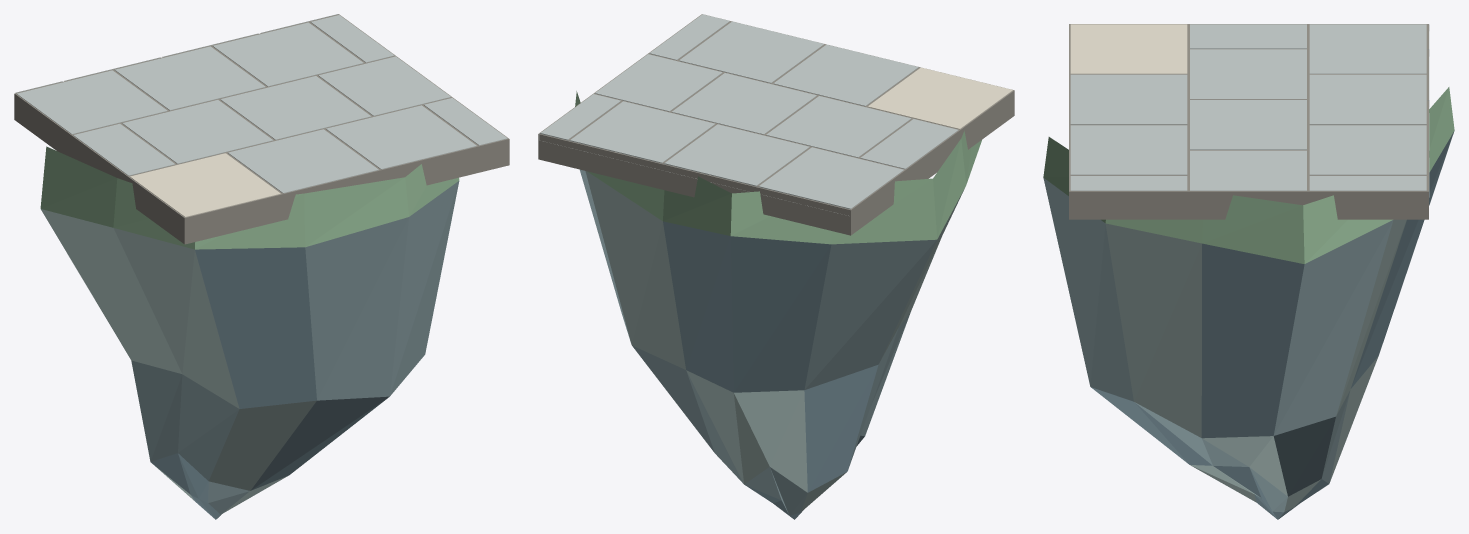
Rendered from FloatingIsland22.glb.
3 views of the same model, side by side, from view 1: azimuth 30°, elevation 25°; view 2: azimuth 150°, elevation 25°; view 3: azimuth 270°, elevation 25° (orthographic). The views are drawn at different scales.
Parts seen in each view (by area): view 1: FloatingIsland22; view 2: FloatingIsland22; view 3: FloatingIsland22.
Part boxes in pixels (x1=…): FloatingIsland22: x1=14, y1=14, x2=509, y2=519; FloatingIsland22: x1=538, y1=14, x2=1014, y2=519; FloatingIsland22: x1=1043, y1=24, x2=1454, y2=519.
Bounding box in the file's own units: 4.08 × 4.16 × 3.61.
